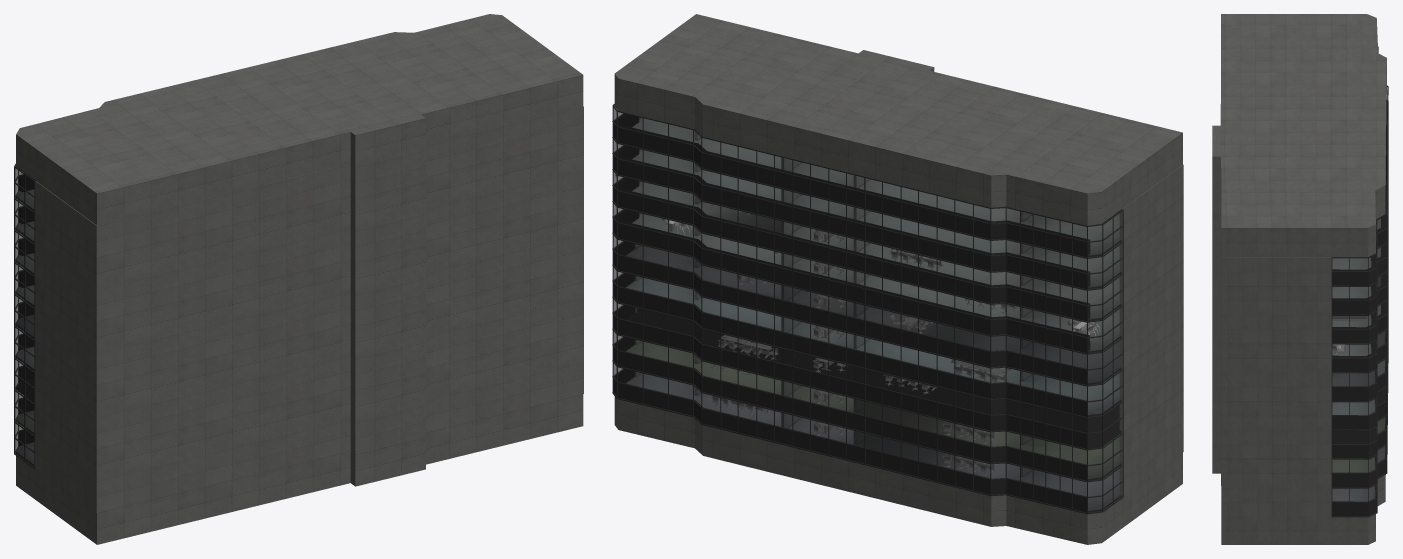
Rendered from office-desktop.glb.
3 views of the same model, side by side, from view 1: azimuth 30°, elevation 25°; view 2: azimuth 150°, elevation 25°; view 3: azimuth 270°, elevation 25° (orthographic). The views are drawn at different scales.
Parts seen in each view (by area): view 1: BLD_OFFICE_06_w2_0, BLD_OFFICE_09_w2_0, BLD_OFFICE_010_w2_0, BLD_OFFICE_01_glass_0, BLD_OFFICE_02_rams_0, BLD_OFFICE_05_walls [BLD_OFFICE_05]_0, BLD_OFFICE_00_walls_exterior_0; view 2: BLD_OFFICE_01_glass_0, BLD_OFFICE_00_walls_exterior_0, BLD_OFFICE_09_w2_0, BLD_OFFICE_05_walls [BLD_OFFICE_05]_0, BLD_OFFICE_02_rams_0, BLD_OFFICE_06_w2_0, BLD_OFFICE_010_w2_0; view 3: BLD_OFFICE_09_w2_0, BLD_OFFICE_06_w2_0, BLD_OFFICE_01_glass_0, BLD_OFFICE_00_walls_exterior_0, BLD_OFFICE_05_walls [BLD_OFFICE_05]_0, BLD_OFFICE_010_w2_0, BLD_OFFICE_02_rams_0.
Part boxes in pixels (<box>): BLD_OFFICE_06_w2_0: <box>35,106,583,512</box>; BLD_OFFICE_09_w2_0: <box>16,14,583,225</box>; BLD_OFFICE_010_w2_0: <box>16,394,583,544</box>; BLD_OFFICE_01_glass_0: <box>15,168,33,466</box>; BLD_OFFICE_02_rams_0: <box>14,163,35,468</box>; BLD_OFFICE_05_walls [BLD_OFFICE_05]_0: <box>16,166,35,466</box>; BLD_OFFICE_00_walls_exterior_0: <box>19,175,34,445</box>; BLD_OFFICE_01_glass_0: <box>613,107,1122,512</box>; BLD_OFFICE_00_walls_exterior_0: <box>613,114,1090,512</box>; BLD_OFFICE_09_w2_0: <box>614,14,1182,225</box>; BLD_OFFICE_05_walls [BLD_OFFICE_05]_0: <box>615,106,1121,512</box>; BLD_OFFICE_02_rams_0: <box>612,104,1123,514</box>; BLD_OFFICE_06_w2_0: <box>635,164,1183,496</box>; BLD_OFFICE_010_w2_0: <box>614,396,1182,544</box>; BLD_OFFICE_09_w2_0: <box>1212,14,1386,256</box>; BLD_OFFICE_06_w2_0: <box>1212,104,1331,516</box>; BLD_OFFICE_01_glass_0: <box>1332,87,1387,515</box>; BLD_OFFICE_00_walls_exterior_0: <box>1332,101,1387,515</box>; BLD_OFFICE_05_walls [BLD_OFFICE_05]_0: <box>1332,218,1385,501</box>; BLD_OFFICE_010_w2_0: <box>1212,444,1385,544</box>; BLD_OFFICE_02_rams_0: <box>1331,46,1388,517</box>.
Size of the model in its own units: 285 by 195 by 98.47.
13 materials, 3 textured.
